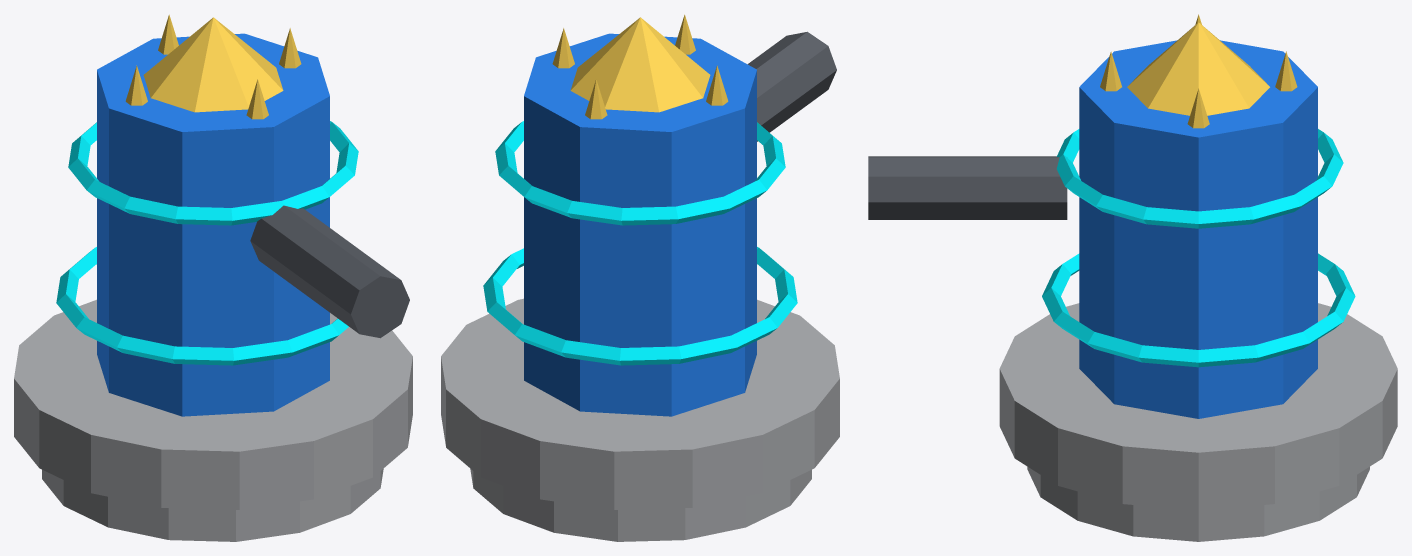
File: TD_BasicTower_T2.fbx
3 renders of one model, left to right at view 1: azimuth 30°, elevation 25°; view 2: azimuth 150°, elevation 25°; view 3: azimuth 270°, elevation 25°, orthographic.
Visible parts, largest first — view 1: TD_BasicTower_T2_Body, TD_BasicTower_T2_Base, TD_BasicTower_T2_Barrel, TD_BasicTower_T2_Pedestal, TD_BasicTower_T2_Top, TD_BasicTower_T2_UpperAccentRing, TD_BasicTower_T2_LowerAccentRing, TD_BasicTower_T2_GoldSpike_4, TD_BasicTower_T2_GoldSpike_1, TD_BasicTower_T2_GoldSpike_2; view 2: TD_BasicTower_T2_Body, TD_BasicTower_T2_Base, TD_BasicTower_T2_Pedestal, TD_BasicTower_T2_Top, TD_BasicTower_T2_LowerAccentRing, TD_BasicTower_T2_UpperAccentRing, TD_BasicTower_T2_Barrel, TD_BasicTower_T2_GoldSpike_3, TD_BasicTower_T2_GoldSpike_1, TD_BasicTower_T2_GoldSpike_2; view 3: TD_BasicTower_T2_Body, TD_BasicTower_T2_Base, TD_BasicTower_T2_Barrel, TD_BasicTower_T2_Pedestal, TD_BasicTower_T2_Top, TD_BasicTower_T2_LowerAccentRing, TD_BasicTower_T2_UpperAccentRing.
Part boxes in pixels (<box>): TD_BasicTower_T2_Body: <box>97,33,329,416</box>; TD_BasicTower_T2_Base: <box>14,299,412,509</box>; TD_BasicTower_T2_Barrel: <box>250,205,409,338</box>; TD_BasicTower_T2_Pedestal: <box>42,469,383,541</box>; TD_BasicTower_T2_Top: <box>143,17,283,112</box>; TD_BasicTower_T2_UpperAccentRing: <box>68,121,358,225</box>; TD_BasicTower_T2_LowerAccentRing: <box>56,247,348,365</box>; TD_BasicTower_T2_GoldSpike_4: <box>246,79,268,119</box>; TD_BasicTower_T2_GoldSpike_1: <box>279,28,301,68</box>; TD_BasicTower_T2_GoldSpike_2: <box>125,65,147,105</box>; TD_BasicTower_T2_Body: <box>524,33,756,416</box>; TD_BasicTower_T2_Base: <box>441,298,839,509</box>; TD_BasicTower_T2_Pedestal: <box>470,469,811,541</box>; TD_BasicTower_T2_Top: <box>570,17,710,112</box>; TD_BasicTower_T2_LowerAccentRing: <box>483,247,797,365</box>; TD_BasicTower_T2_UpperAccentRing: <box>495,121,785,225</box>; TD_BasicTower_T2_Barrel: <box>747,31,836,141</box>; TD_BasicTower_T2_GoldSpike_3: <box>585,79,607,119</box>; TD_BasicTower_T2_GoldSpike_1: <box>552,28,574,68</box>; TD_BasicTower_T2_GoldSpike_2: <box>706,65,728,105</box>; TD_BasicTower_T2_Body: <box>1079,40,1317,418</box>; TD_BasicTower_T2_Base: <box>999,303,1397,510</box>; TD_BasicTower_T2_Barrel: <box>868,156,1067,219</box>; TD_BasicTower_T2_Pedestal: <box>1027,466,1369,541</box>; TD_BasicTower_T2_Top: <box>1127,22,1269,115</box>; TD_BasicTower_T2_LowerAccentRing: <box>1042,253,1355,367</box>; TD_BasicTower_T2_UpperAccentRing: <box>1056,129,1343,228</box>.
Size of the model in its own units: 1 by 1.24 by 1.33.
